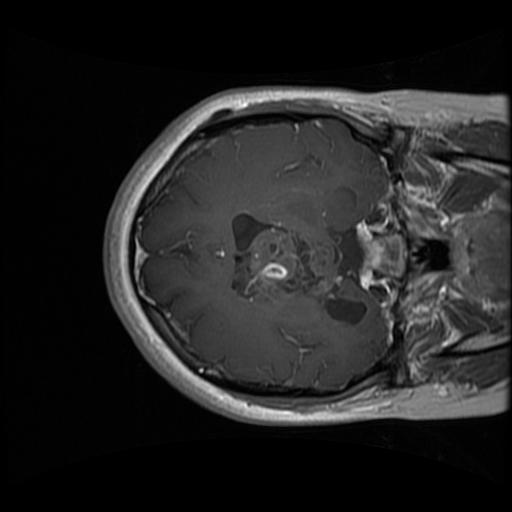glioma: (231, 212, 368, 330)
